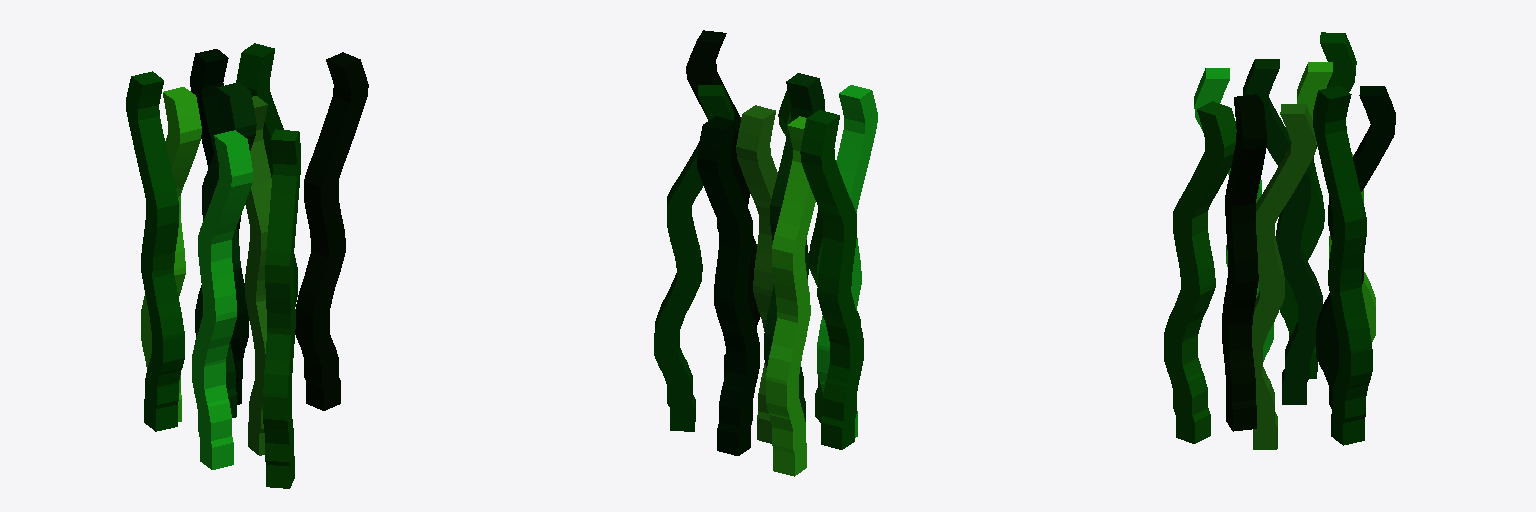
File: seaweed.obj
The picture shows the model from 3 angles: view 1: azimuth 30°, elevation 25°; view 2: azimuth 150°, elevation 25°; view 3: azimuth 270°, elevation 25°; orthographic projection.
Visible parts, largest first — view 1: Cube.006, Cube.004, Cube.003, Cube.008, Cube.001, Cube.002, Cube.005, Cube, Cube.007; view 2: Cube.004, Cube.005, Cube.002, Cube.007, Cube.001, Cube.003, Cube, Cube.006, Cube.008; view 3: Cube.007, Cube.008, Cube.006, Cube.001, Cube, Cube.005, Cube.004, Cube.002, Cube.003.
Boxes of the visible parts, x1,y1,x2,y2 form: Cube.006: [295, 52, 368, 410]; Cube.004: [126, 71, 184, 431]; Cube.003: [192, 130, 252, 469]; Cube.008: [263, 129, 300, 488]; Cube.001: [245, 96, 271, 455]; Cube.002: [141, 87, 201, 421]; Cube.005: [190, 49, 248, 404]; Cube: [195, 82, 256, 417]; Cube.007: [236, 43, 297, 306]; Cube.004: [800, 110, 863, 449]; Cube.005: [697, 116, 759, 455]; Cube.002: [766, 116, 815, 476]; Cube.007: [654, 85, 734, 431]; Cube.001: [736, 105, 777, 443]; Cube.003: [817, 85, 877, 437]; Cube: [764, 73, 824, 421]; Cube.006: [686, 30, 760, 376]; Cube.008: [778, 88, 860, 422]; Cube.007: [1313, 85, 1372, 445]; Cube.008: [1164, 101, 1236, 443]; Cube.006: [1222, 94, 1266, 431]; Cube.001: [1252, 104, 1316, 449]; Cube: [1243, 59, 1322, 404]; Cube.005: [1316, 86, 1395, 410]; Cube.004: [1280, 32, 1356, 378]; Cube.002: [1297, 62, 1375, 341]; Cube.003: [1194, 68, 1273, 361].
Size of the model in its own units: 17.61 by 34.01 by 18.84.